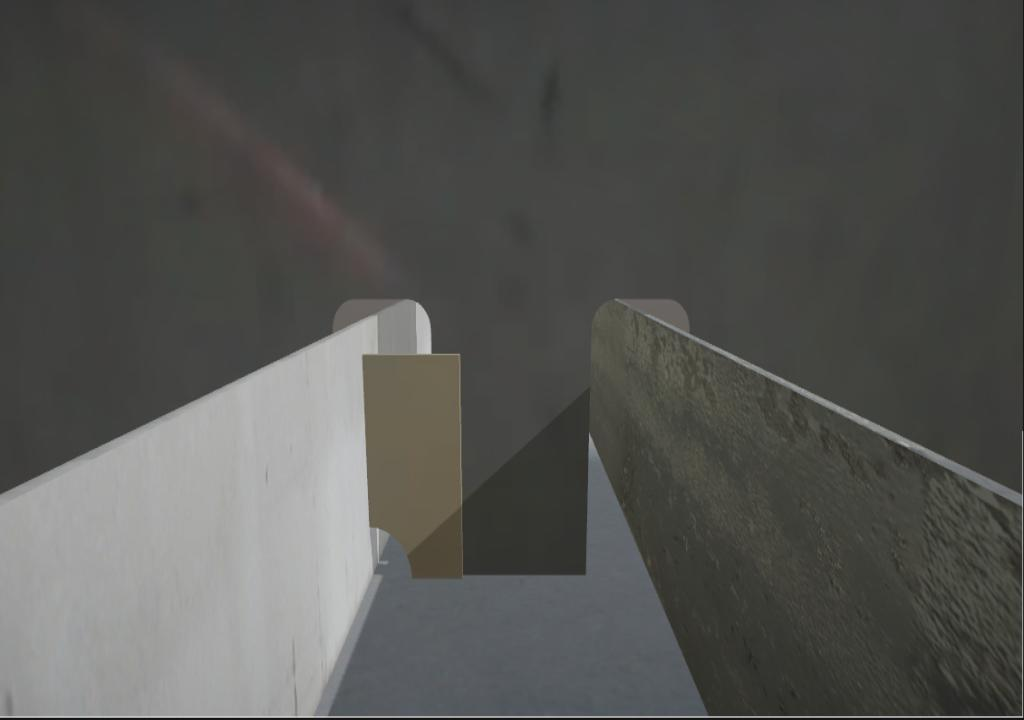fillet_yong_jeop_jang: (461, 570, 590, 580)
plate_CP02: (363, 352, 462, 579)
